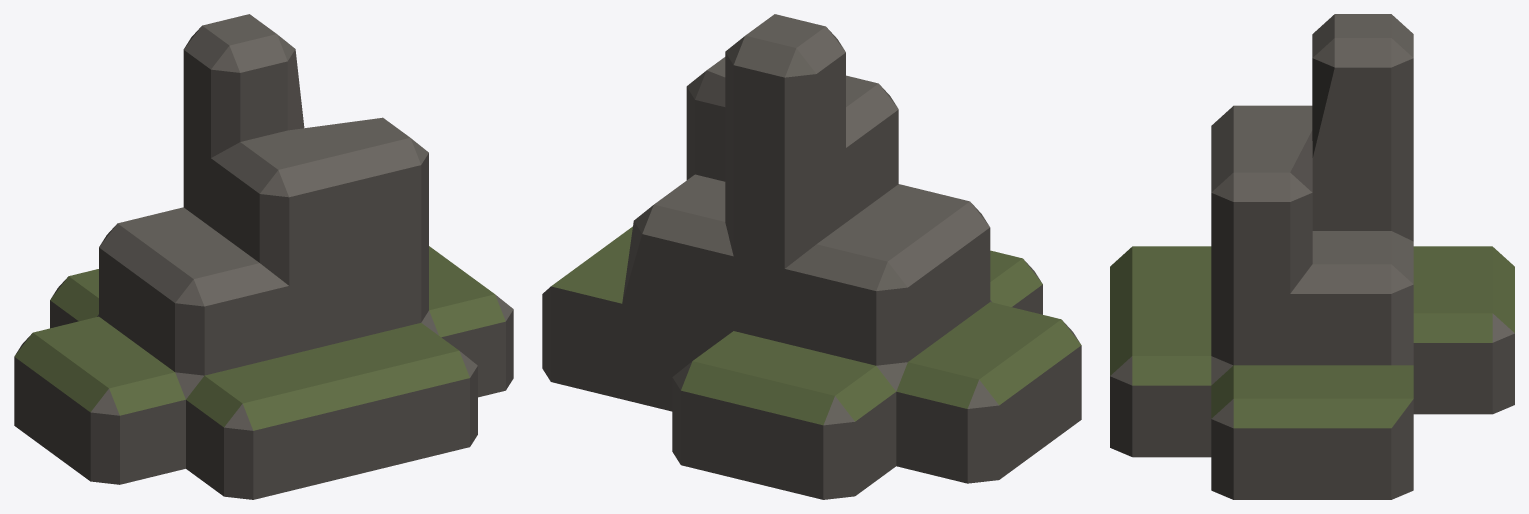
Rendered from stone_debris_mountain_cluster.glb.
The picture shows the model from 3 angles, left to right: view 1: azimuth 30°, elevation 25°; view 2: azimuth 150°, elevation 25°; view 3: azimuth 270°, elevation 25°; orthographic projection. The views are drawn at different scales.
Parts seen in each view (by area): view 1: stone_debris_mountain_cluster; view 2: stone_debris_mountain_cluster; view 3: stone_debris_mountain_cluster.
Part boxes in pixels (bbox=[...]): stone_debris_mountain_cluster: bbox=[14, 14, 513, 499]; stone_debris_mountain_cluster: bbox=[542, 14, 1081, 499]; stone_debris_mountain_cluster: bbox=[1110, 14, 1514, 499].
Size of the model in its own units: 0.5 by 0.4 by 0.4.
Materials: 1 (1 with a texture image).
